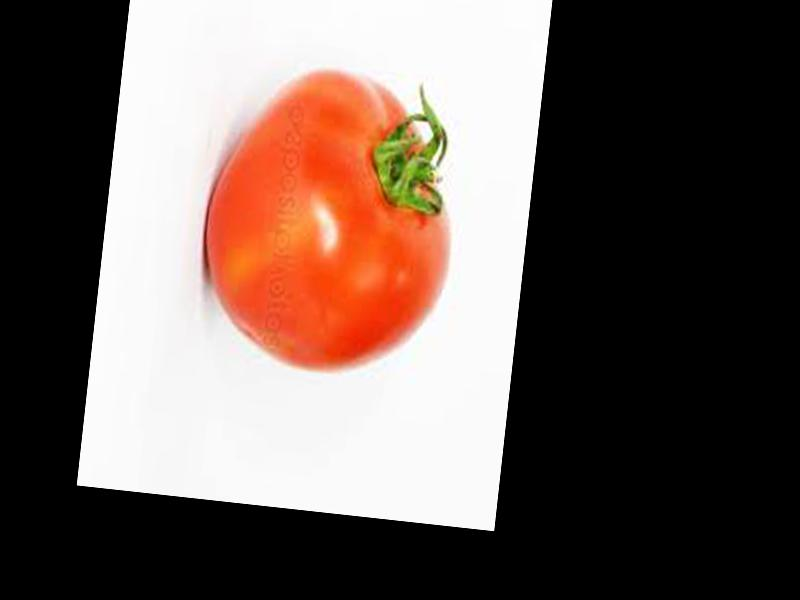Tomato: (192, 59, 471, 383)
